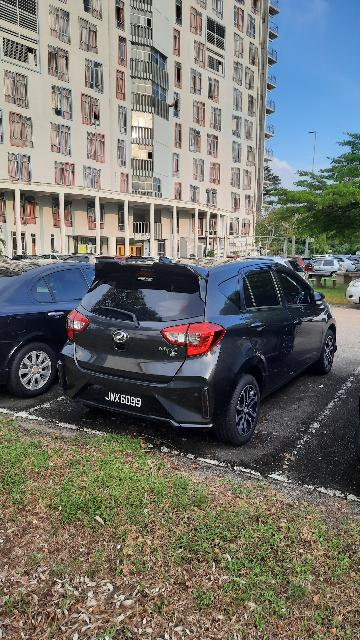License_Plate: (91, 381, 162, 421)
car: (61, 248, 343, 438), (1, 252, 135, 410)
